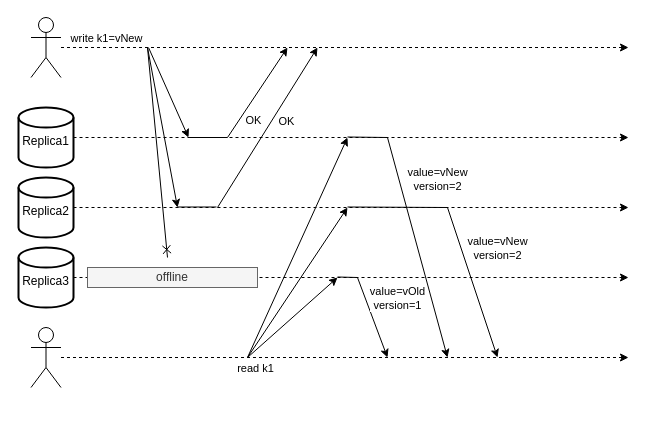
Some shapes in this 654 by 426 pixel diagram are drawn without their labels. The centre of each missing label's shape, as x and y in pixels:
User1: the point at 45,47
User2: the point at 45,357
